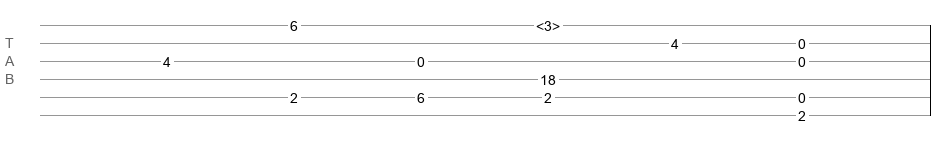0: (417, 54, 425, 64), (798, 90, 806, 100), (798, 54, 806, 64), (798, 36, 806, 46)
18: (540, 72, 556, 82)
2: (290, 90, 298, 100), (544, 90, 552, 100), (798, 108, 806, 118)
4: (163, 54, 171, 64), (671, 36, 679, 46)
6: (290, 18, 298, 28), (417, 90, 425, 100)
harmonic: (536, 18, 560, 28)
